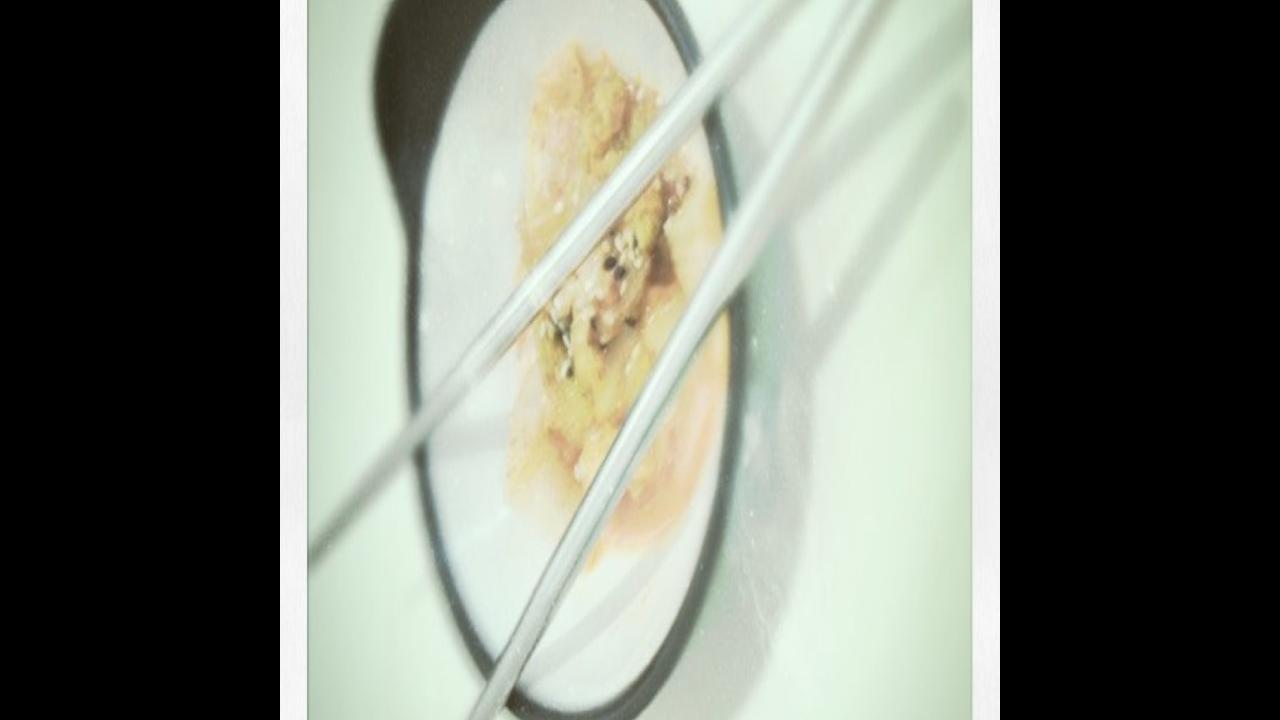chopstick: (345, 0, 901, 720), (310, 0, 948, 574)
